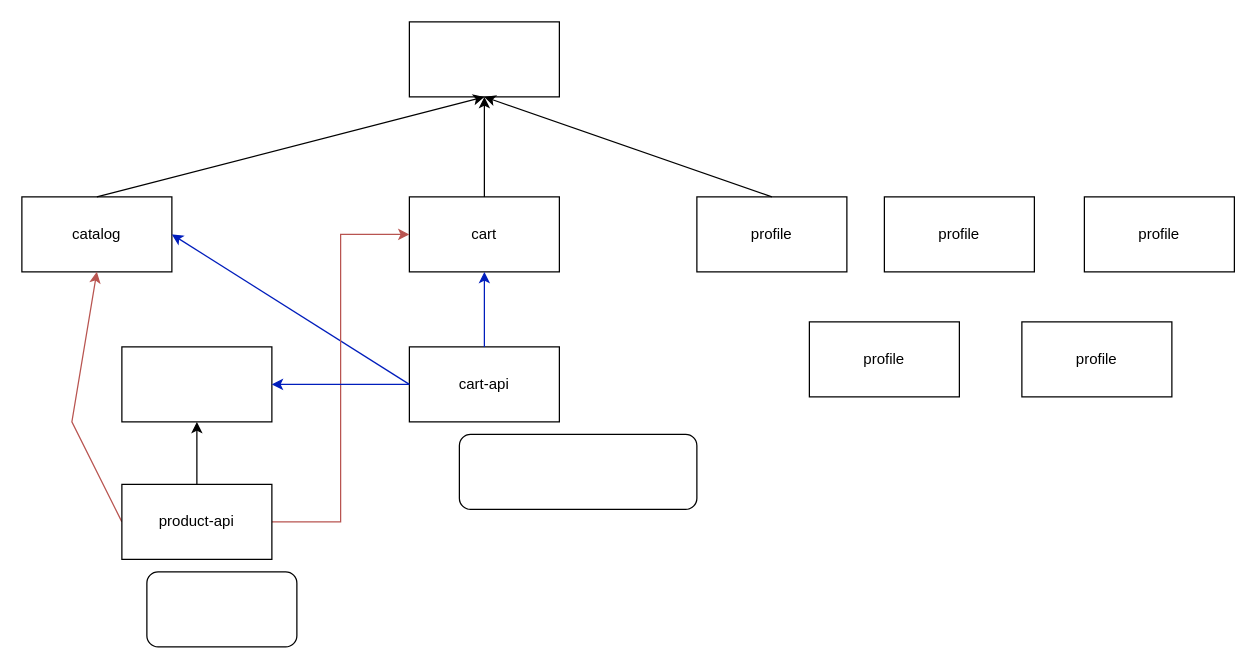
This 1256x669 diagram has some shape labels left out. Here are the shapes that lost their labels. From the top down, the centre of each, then its label:
the point at 483,59: app
the point at 196,384: product
the point at 577,471: CartRepository(Singletone)
the point at 221,609: ProductNavigation ProductRepository
